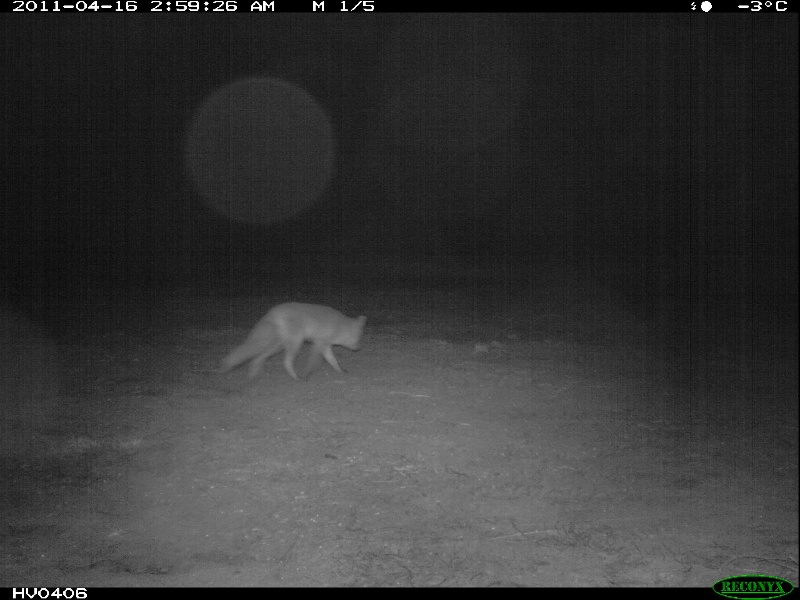fox: (216, 299, 368, 382)
